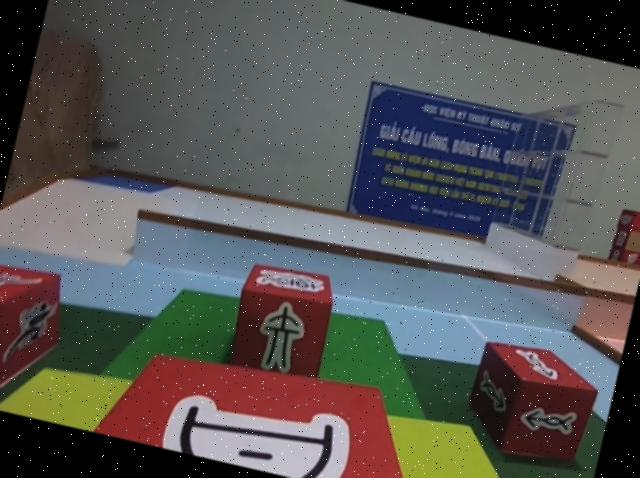R1: (0, 254, 73, 407)
R2 Fake: (216, 254, 344, 391)
R2 Real: (82, 321, 435, 478), (453, 327, 604, 472)
